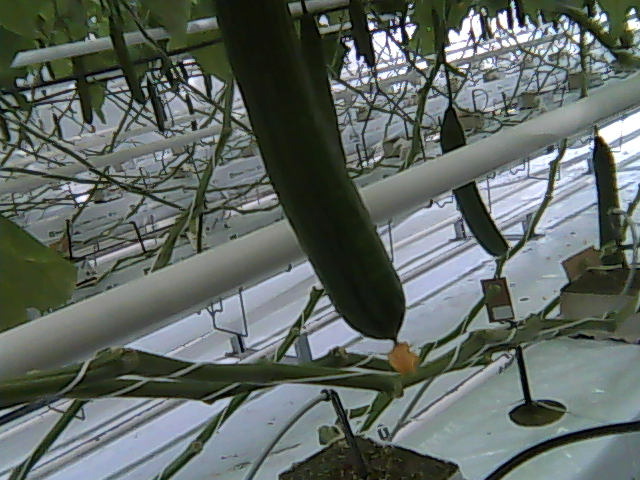concombre: (206, 1, 427, 380)
